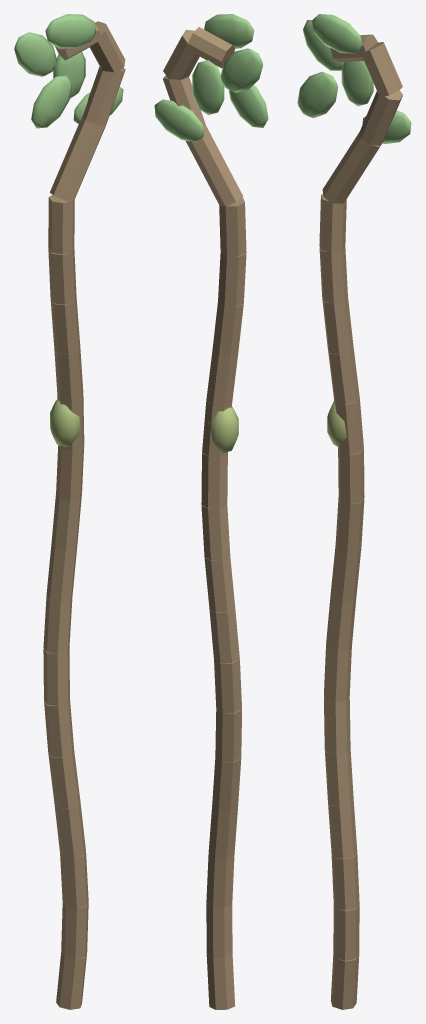
The model's file is Staff_Druid.gltf.
The picture shows the model from 3 angles, left to right: view 1: azimuth 30°, elevation 25°; view 2: azimuth 150°, elevation 25°; view 3: azimuth 330°, elevation 25°; orthographic projection.
Visible parts, largest first — view 1: Staff_Druid; view 2: Staff_Druid; view 3: Staff_Druid.
Boxes of the visible parts, box(x1,y1,x2,y2) form: Staff_Druid: box(14, 14, 125, 1009); Staff_Druid: box(154, 14, 268, 1009); Staff_Druid: box(297, 14, 411, 1009).
Size of the model in its own units: 0.226 by 1.97 by 0.0692.
